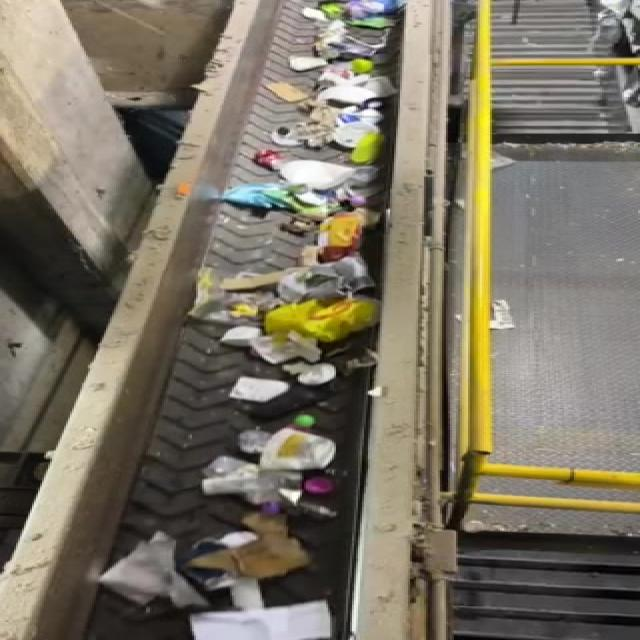paper: (90, 527, 198, 607), (227, 376, 298, 406)
pp: (173, 487, 337, 588), (203, 409, 365, 466), (194, 466, 344, 499), (295, 360, 343, 390)
